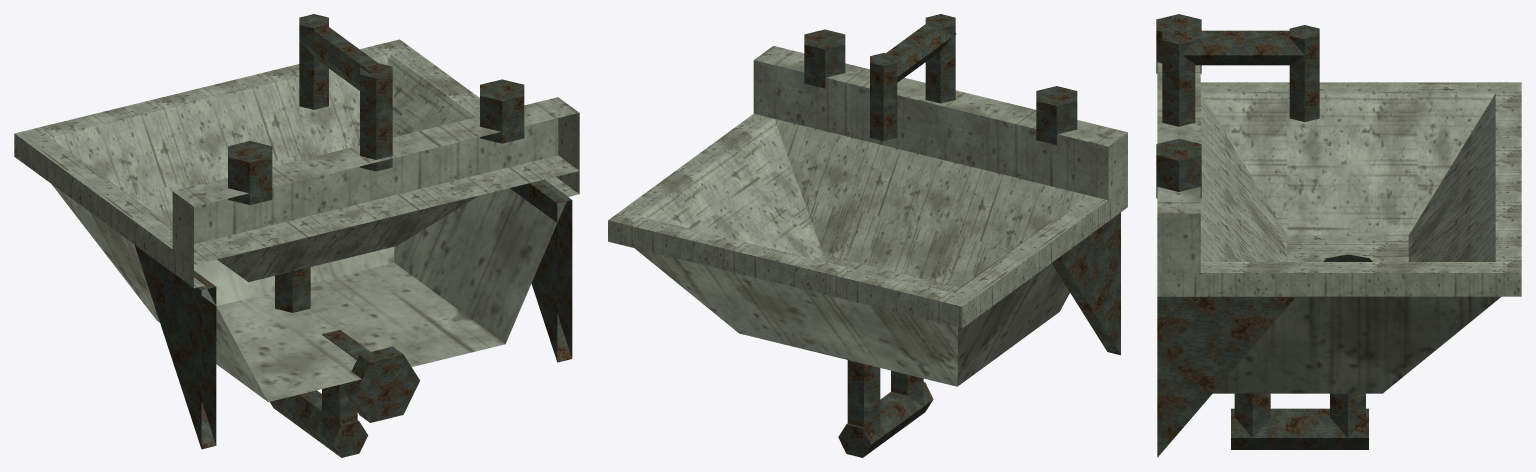
File: SM_Sink.fbx
The picture shows the model from 3 angles, left to right: view 1: azimuth 30°, elevation 25°; view 2: azimuth 150°, elevation 25°; view 3: azimuth 270°, elevation 25°; orthographic projection. The views are drawn at different scales.
Visible parts, largest first — view 1: SM_Sink; view 2: SM_Sink; view 3: SM_Sink.
Boxes of the visible parts, box(x1,y1,x2,y2) form: SM_Sink: box(14, 14, 579, 457); SM_Sink: box(608, 14, 1127, 457); SM_Sink: box(1156, 14, 1521, 457).
Size of the model in its own units: 0.52 by 0.5258 by 0.421.
